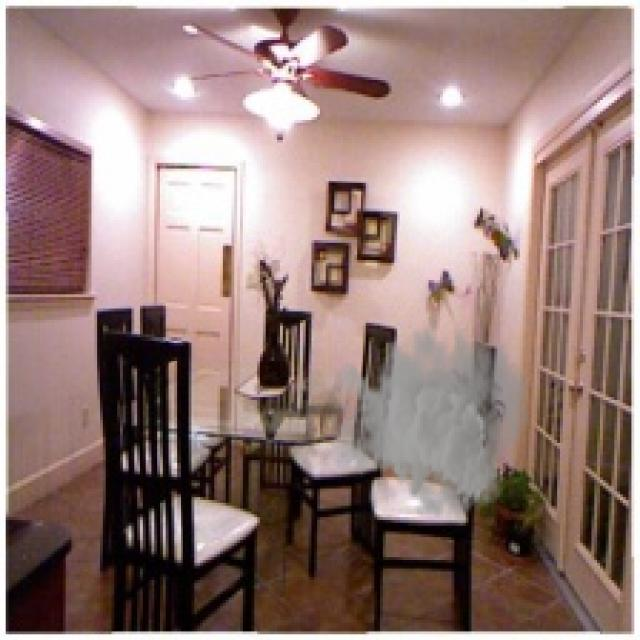smoke: (328, 306, 532, 528)
